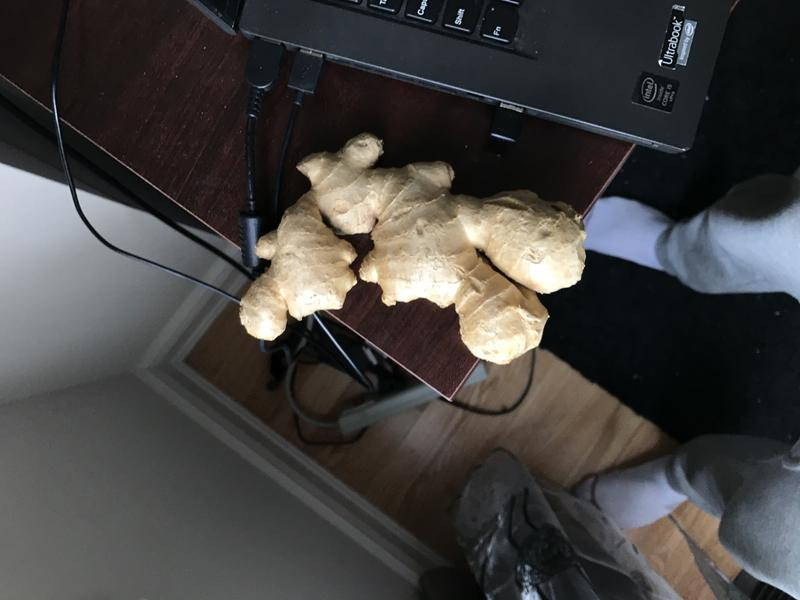ginger: (235, 127, 596, 372)
